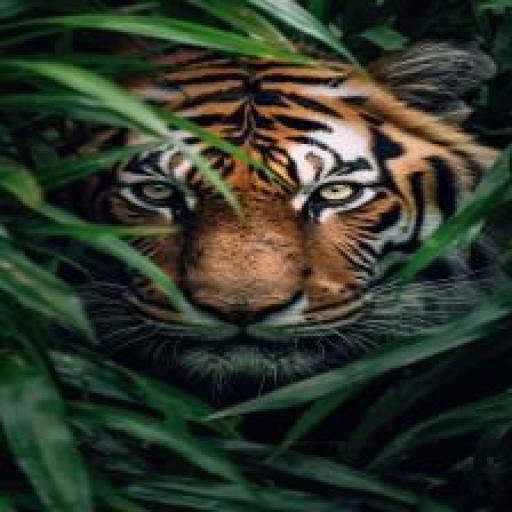Tiger: (27, 18, 512, 404)
